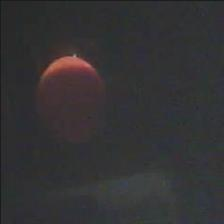fertile: (31, 52, 112, 152)
